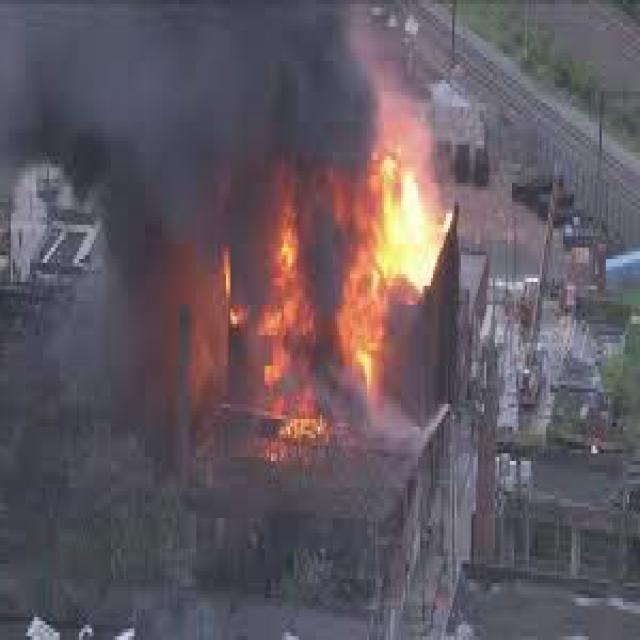Fire: (210, 138, 468, 464)
Smoke: (0, 5, 352, 215)
